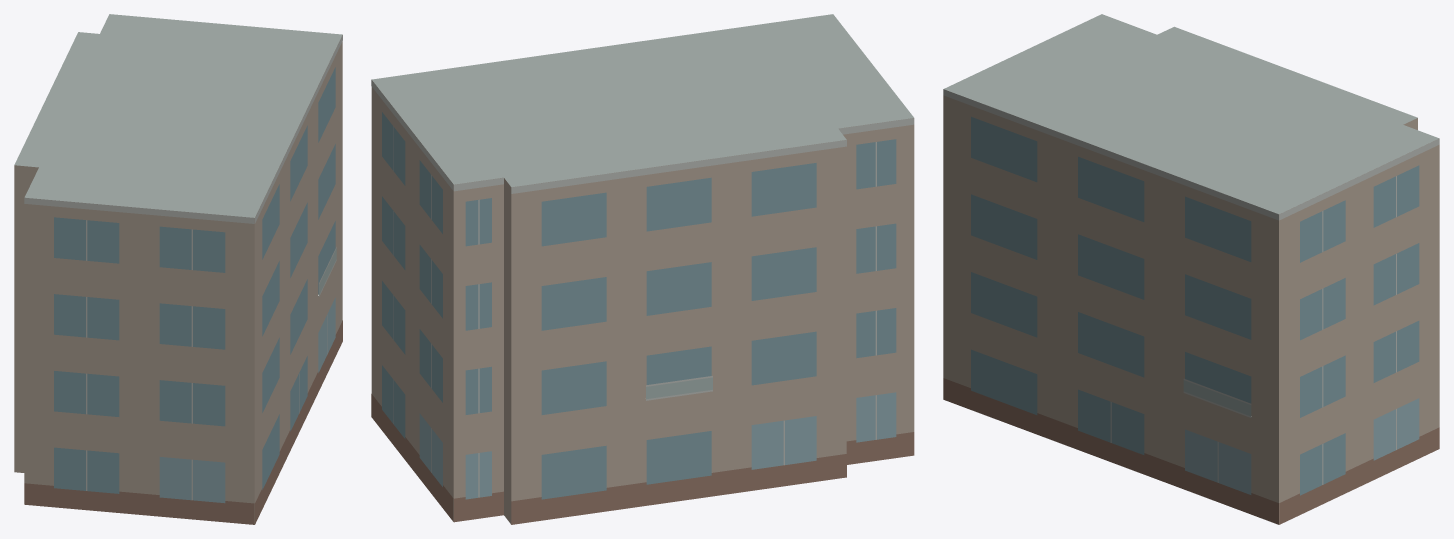
Rendered from survey-upis-32831241.glb.
3 renders of one model, left to right at view 1: azimuth 30°, elevation 25°; view 2: azimuth 150°, elevation 25°; view 3: azimuth 270°, elevation 25°, orthographic. The views are drawn at different scales.
Visible parts, largest first — view 1: survey-upis-32831241.tmp; view 2: survey-upis-32831241.tmp; view 3: survey-upis-32831241.tmp.
Boxes of the visible parts, x1,y1,x2,y2 form: survey-upis-32831241.tmp: (14, 14, 342, 524); survey-upis-32831241.tmp: (371, 14, 914, 524); survey-upis-32831241.tmp: (943, 14, 1439, 524).
Bounding box in the file's own units: 16.89 × 12.2 × 17.67.
